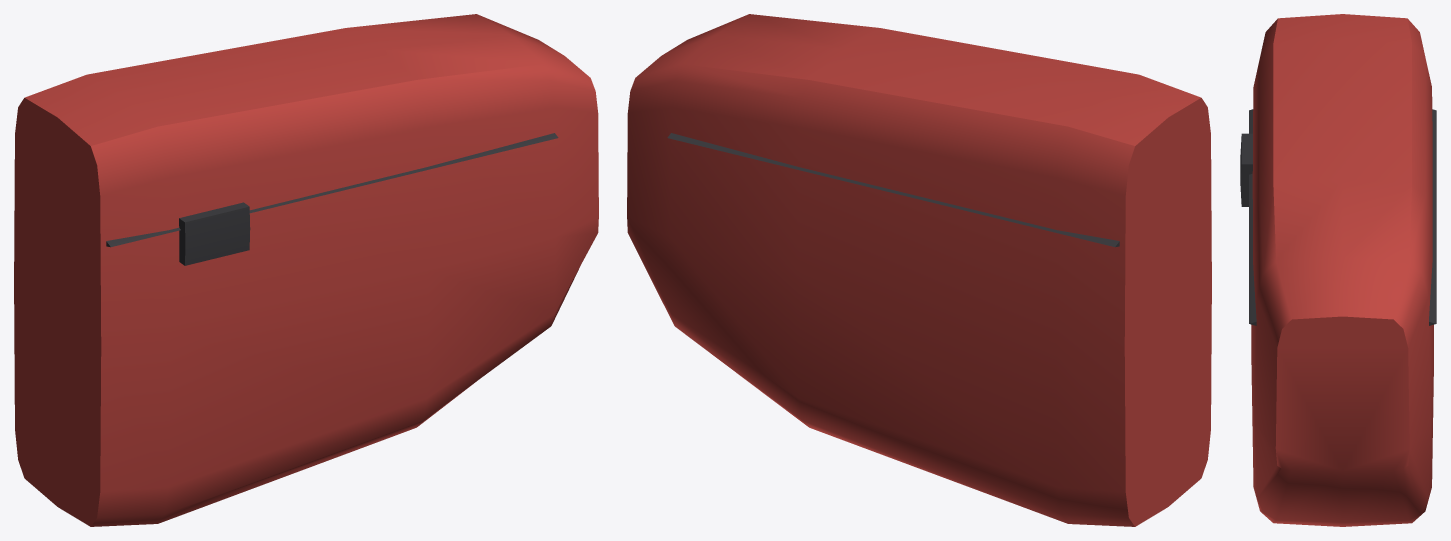
File: sport_case_lod1.glb
3 renders of one model, left to right at view 1: azimuth 30°, elevation 25°; view 2: azimuth 150°, elevation 25°; view 3: azimuth 270°, elevation 25°, orthographic. The views are drawn at different scales.
Visible parts, largest first — view 1: sport_case_lod1; view 2: sport_case_lod1; view 3: sport_case_lod1.
Boxes of the visible parts, x1,y1,x2,y2 form: sport_case_lod1: (14, 14, 598, 526); sport_case_lod1: (627, 14, 1211, 526); sport_case_lod1: (1240, 14, 1436, 526).
Bounding box in the file's own units: 0.47 × 0.36 × 0.161.
